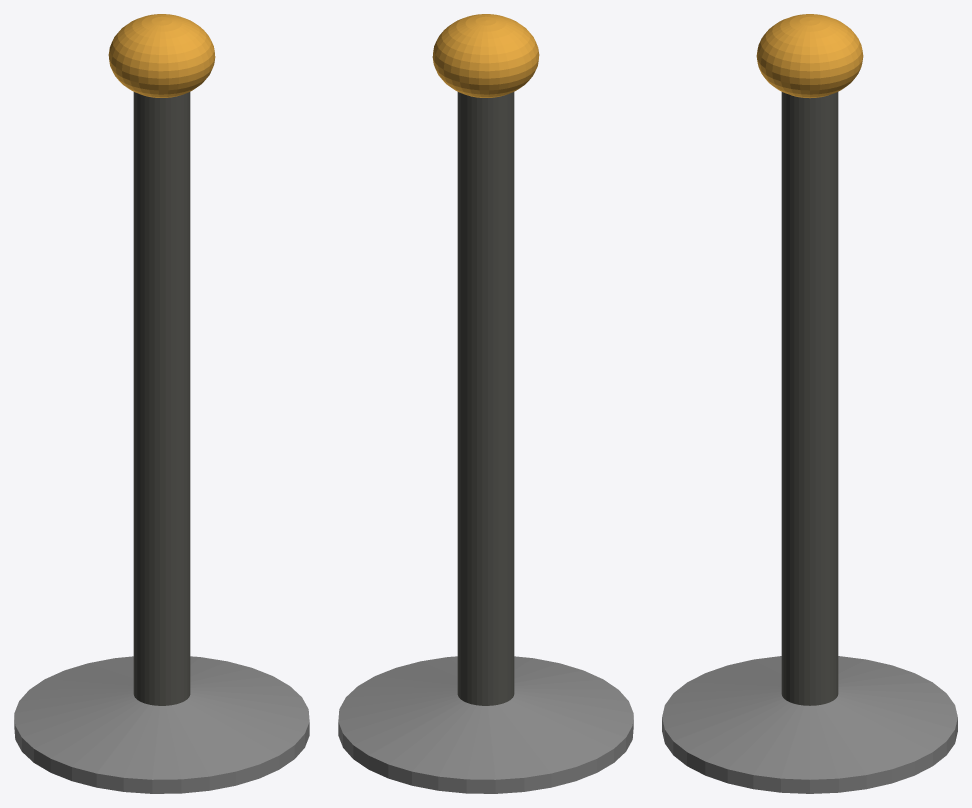
File: conductor.fbx
3 views of the same model, side by side, from view 1: azimuth 30°, elevation 25°; view 2: azimuth 150°, elevation 25°; view 3: azimuth 270°, elevation 25° (orthographic).
Visible parts, largest first — view 1: Sphere; view 2: Sphere; view 3: Sphere.
Boxes of the visible parts, x1,y1,x2,y2 form: Sphere: [14, 14, 309, 793]; Sphere: [338, 14, 633, 793]; Sphere: [662, 14, 957, 793].
Bounding box in the file's own units: 200 × 530 × 200.
